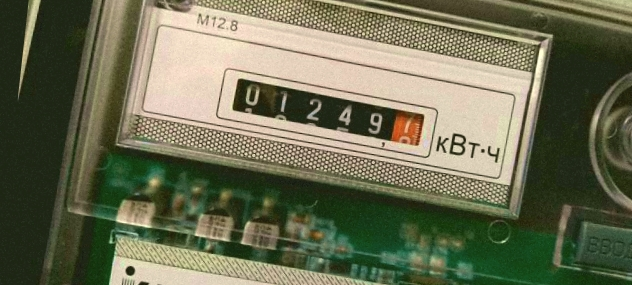0: (242, 79, 262, 107)
1: (273, 86, 290, 113)
2: (303, 95, 322, 123)
4: (335, 100, 354, 126)
7: (399, 108, 417, 135)
9: (364, 108, 383, 136)
screen: (211, 64, 442, 162)
